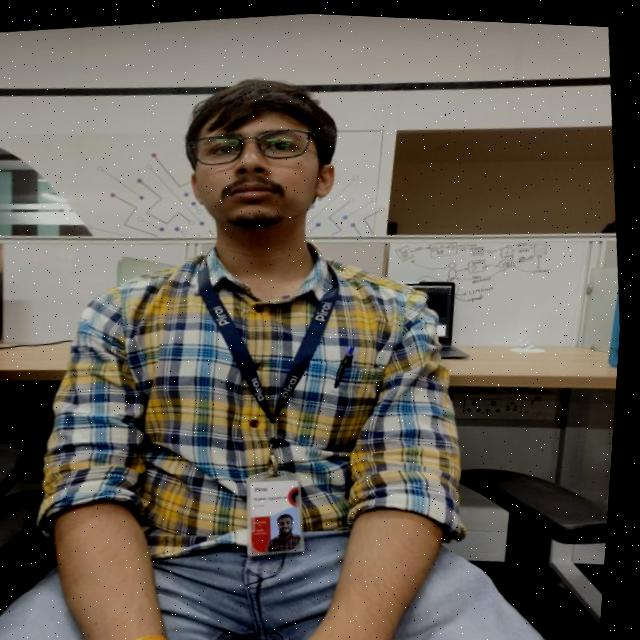id_card: (169, 226, 382, 573)
